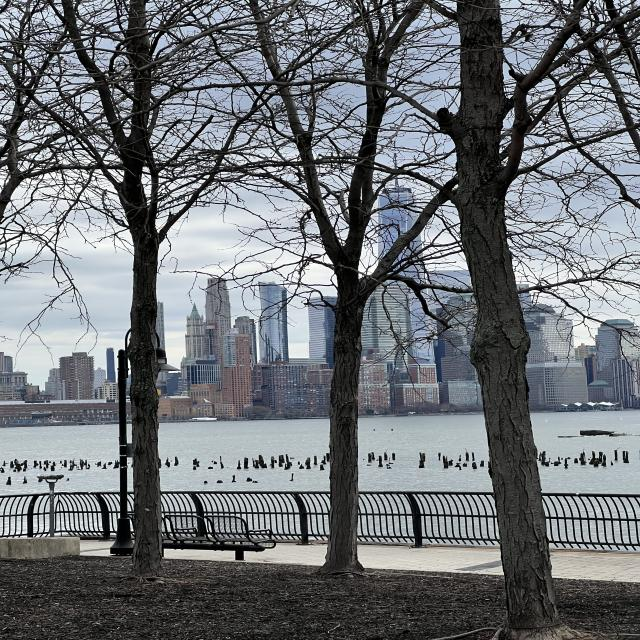WTC: (375, 143, 424, 284)
